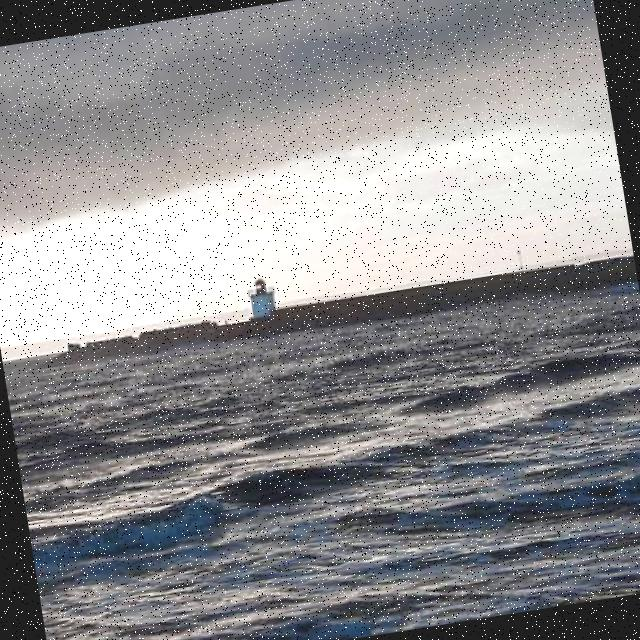Ns: (1, 1, 628, 312)
